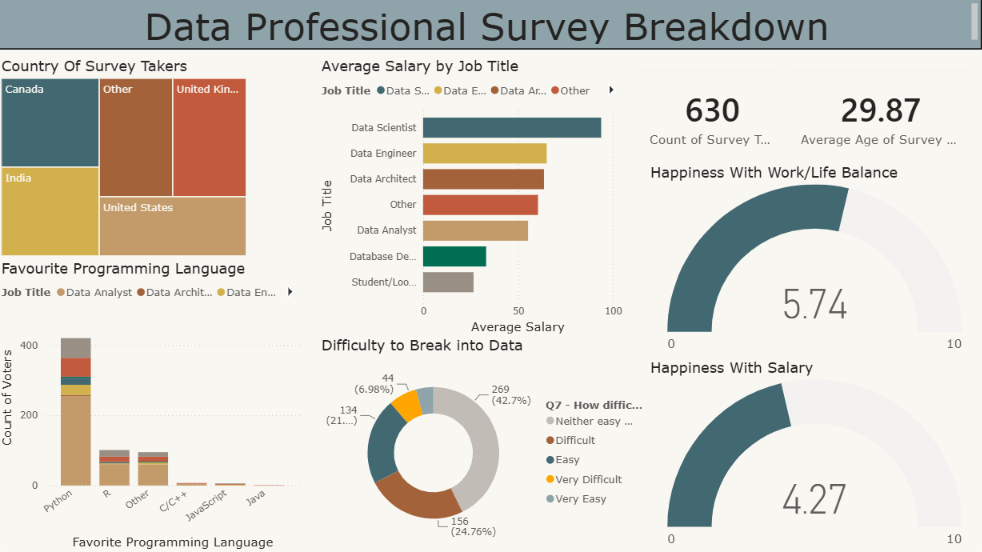

What the dashboard file says about the page in this screenshot:
{"tool":"powerbi","page":{"name":"Page 1","canvas":[1280,720],"ordinal":0},"visuals":[{"type":"textbox","box":[0,0,1280,66.4],"z":0},{"type":"cardVisual","fields":{"Data":["CountNonNull(Data Professional Survey.Unique ID)"]},"box":[816.6,76.4,221.7,150.3],"z":1},{"type":"cardVisual","fields":{"Data":["Avg(Data Professional Survey.Q10 - Current Age)"]},"box":[1013.2,76.4,266.8,150.3],"z":2},{"type":"barChart","title":"Average Salary by  Job Title","fields":{"Category":["Data Professional Survey.Q1 - Which Title Best Fits your Current Role?.1"],"Y":["Avg(Data Professional Survey.Average Salary)"],"Series":["Data Professional Survey.Q1 - Which Title Best Fits your Current Role?.1"]},"box":[415.8,76.4,400.8,363.2],"z":3},{"type":"columnChart","title":"Favourite Programming Language","fields":{"Category":["Data Professional Survey.Q5 - Favorite Programming Language.1"],"Y":["CountNonNull(Data Professional Survey.Unique ID)"],"Series":["Data Professional Survey.Q1 - Which Title Best Fits your Current Role?.1"]},"box":[0,339.4,398.3,380.7],"z":4},{"type":"treemap","title":"Country Of Survey Takers","fields":{"Group":["Data Professional Survey.Q11 - Which Country do you live in?.1"],"Values":["Count(Data Professional Survey.Q11 - Which Country do you live in?.1)"]},"box":[0,76.4,328.1,263],"z":5},{"type":"gauge","title":"Happiness With Work/Life Balance","fields":{"Y":["Avg(Data Professional Survey.Q6 - How Happy are you in your Current Position with the following? (Work/Life Balance))"],"MinValue":["Min(Data Professional Survey.Q6 - How Happy are you in your Current Position with the following? (Work/Life Balance))"],"MaxValue":["Max(Data Professional Survey.Q6 - How Happy are you in your Current Position with the following? (Work/Life Balance))1"]},"box":[842.9,214.2,437.1,253],"z":6},{"type":"gauge","title":"Happiness With Salary","fields":{"Y":["Avg(Data Professional Survey.Q6 - How Happy are you in your Current Position with the following? (Salary))"],"MinValue":["Min(Data Professional Survey.Q6 - How Happy are you in your Current Position with the following? (Salary))"],"MaxValue":["Max(Data Professional Survey.Q6 - How Happy are you in your Current Position with the following? (Salary))"]},"box":[842.9,467.2,437.1,253],"z":7},{"type":"donutChart","title":"Difficulty to Break into Data","fields":{"Category":["Data Professional Survey.Q7 - How difficult was it for you to break into Data?"],"Y":["CountNonNull(Data Professional Survey.Q7 - How difficult was it for you to break into Data?)"]},"box":[415.8,439.6,427.1,280.5],"z":8}]}

Visuals, with their boxes in screenshot pixels (x1, y1, x2, y2), scaled from the page's 1280x720 canvas onto the 982x552 screenshot:
textbox: 0 0 981 51
cardVisual - CountNonNull(Data Professional Survey.Unique ID): 626 59 797 174
cardVisual - Avg(Data Professional Survey.Q10 - Current Age): 777 59 981 174
"Average Salary by  Job Title" barChart: 319 59 626 337
"Favourite Programming Language" columnChart: 0 260 306 551
"Country Of Survey Takers" treemap: 0 59 252 260
"Happiness With Work/Life Balance" gauge: 647 164 981 358
"Happiness With Salary" gauge: 647 358 981 551
"Difficulty to Break into Data" donutChart: 319 337 647 551
